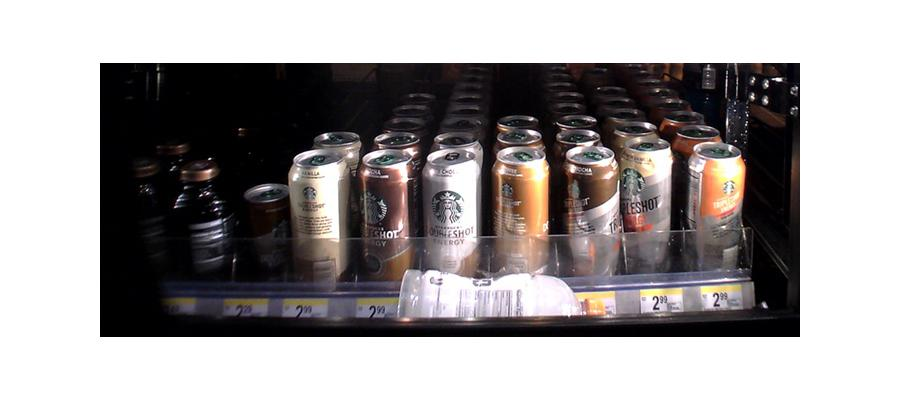bottle: (418, 138, 483, 284), (559, 142, 621, 285), (290, 150, 351, 286), (492, 139, 550, 281), (684, 140, 743, 273), (357, 146, 412, 285), (622, 135, 676, 275), (178, 157, 234, 281), (240, 180, 288, 278)
